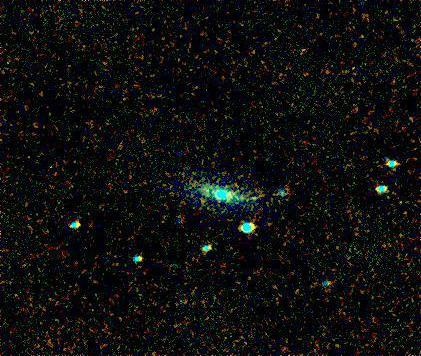star: (237, 182, 267, 212)
